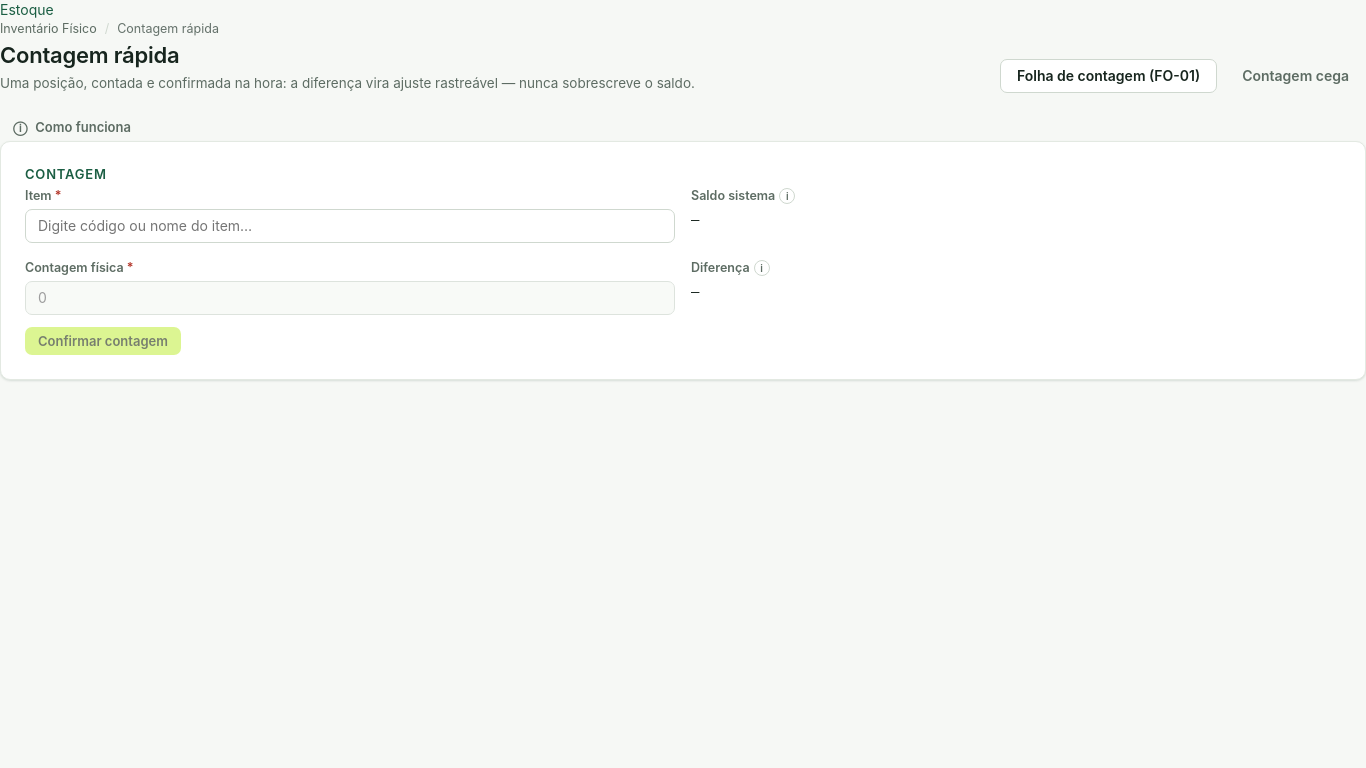
Inventário Físico — guarda de alterações não salvas › o motivo da divergência também pergunta, e Continuar mantém tudo
Expected: the heading "Contagem rápida" is shown, [0,42,179,68]
In the dropdown with id "count-item": (350, 226) [25,209,675,243], type "MP-000001"
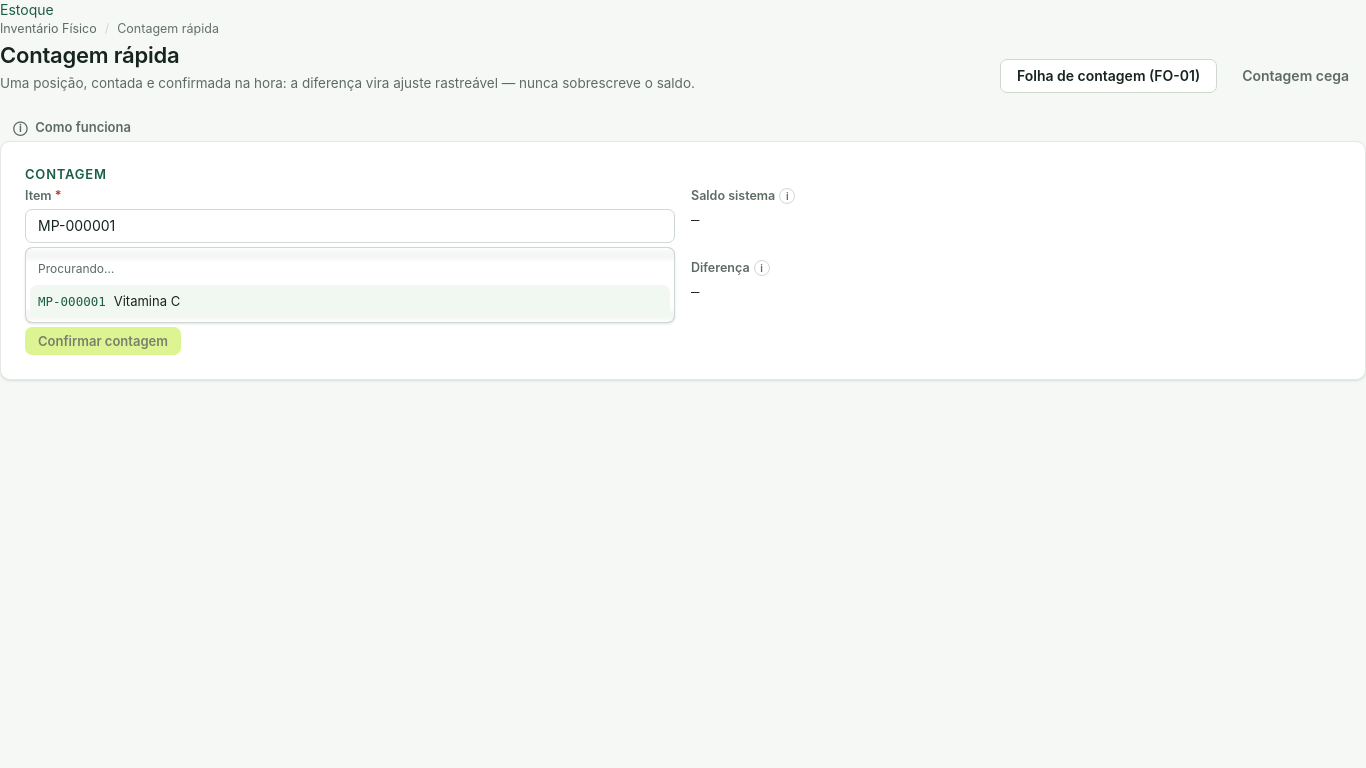
Press the mouse on the option "MP-000001 Vitamina C": (72, 302) [30,285,670,318]
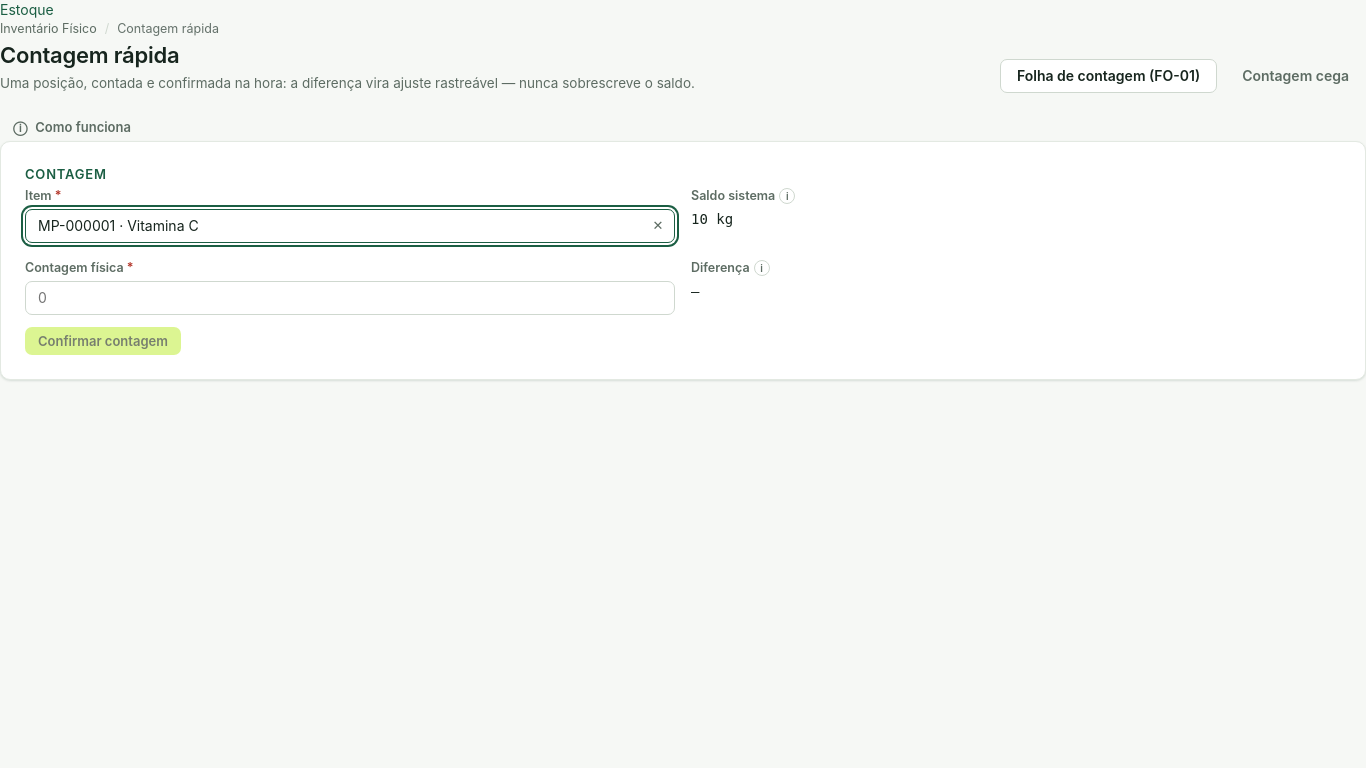
Expected: the field with id "count-quantity" is enabled
In the field with id "count-quantity": (350, 298) [25,281,675,315], type "8"
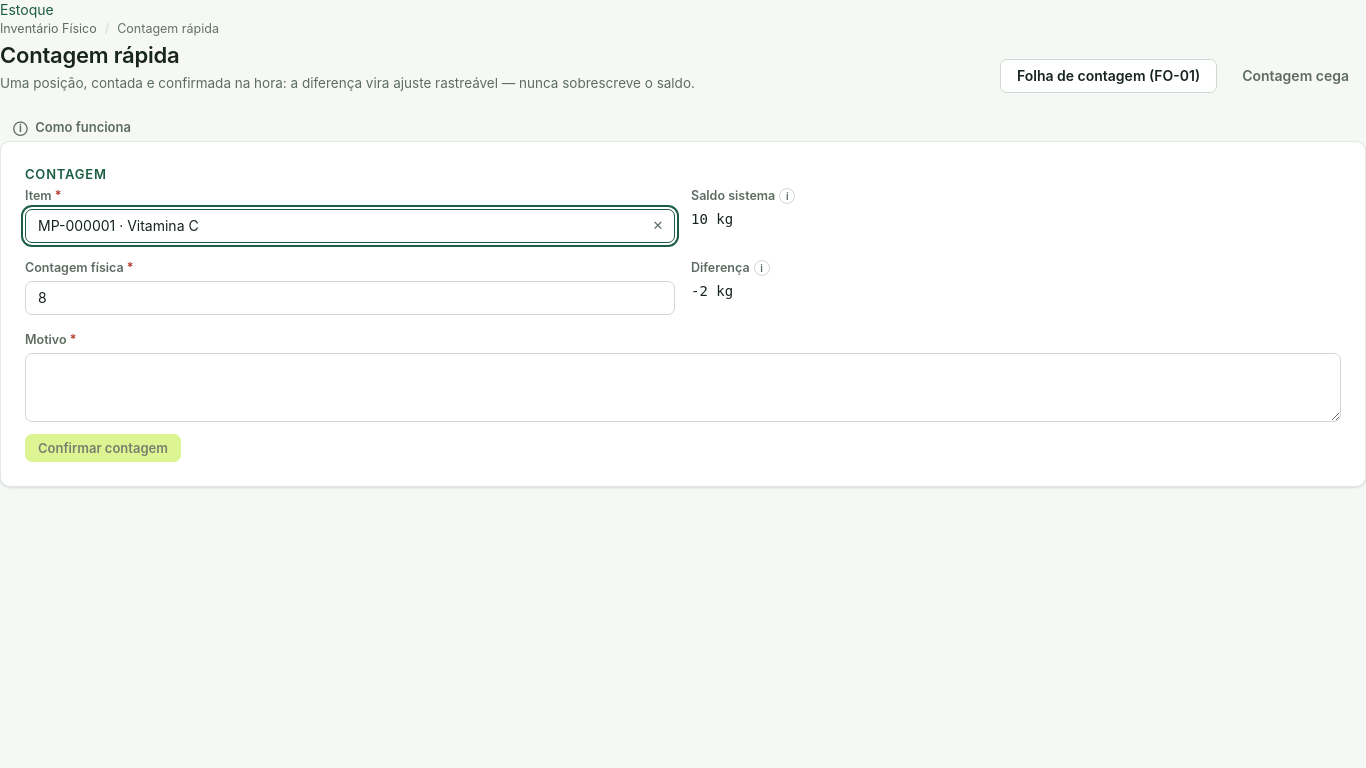
In the text box with id "count-reason": (683, 388) [25,353,1341,422], type "Quebra na separação"
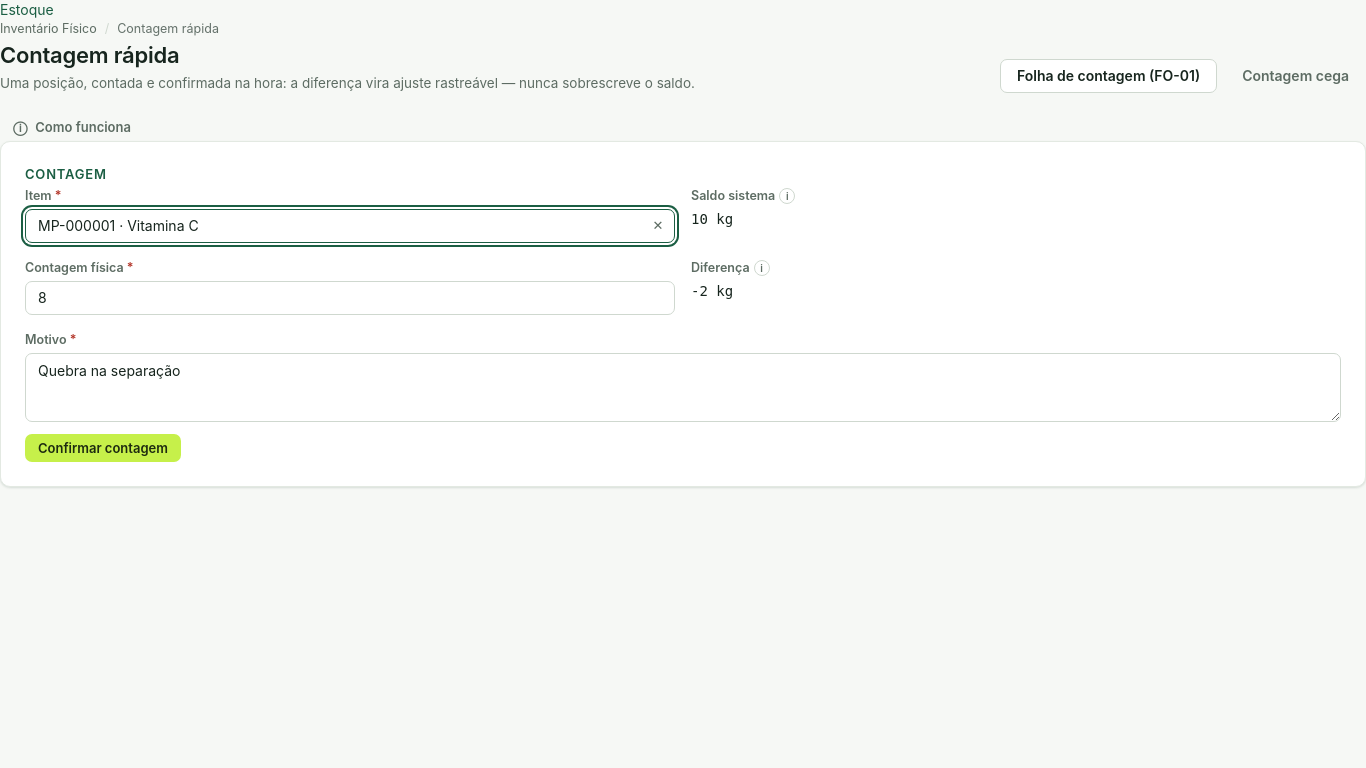
Click the link "Estoque": (27, 10) [0,1,54,18]
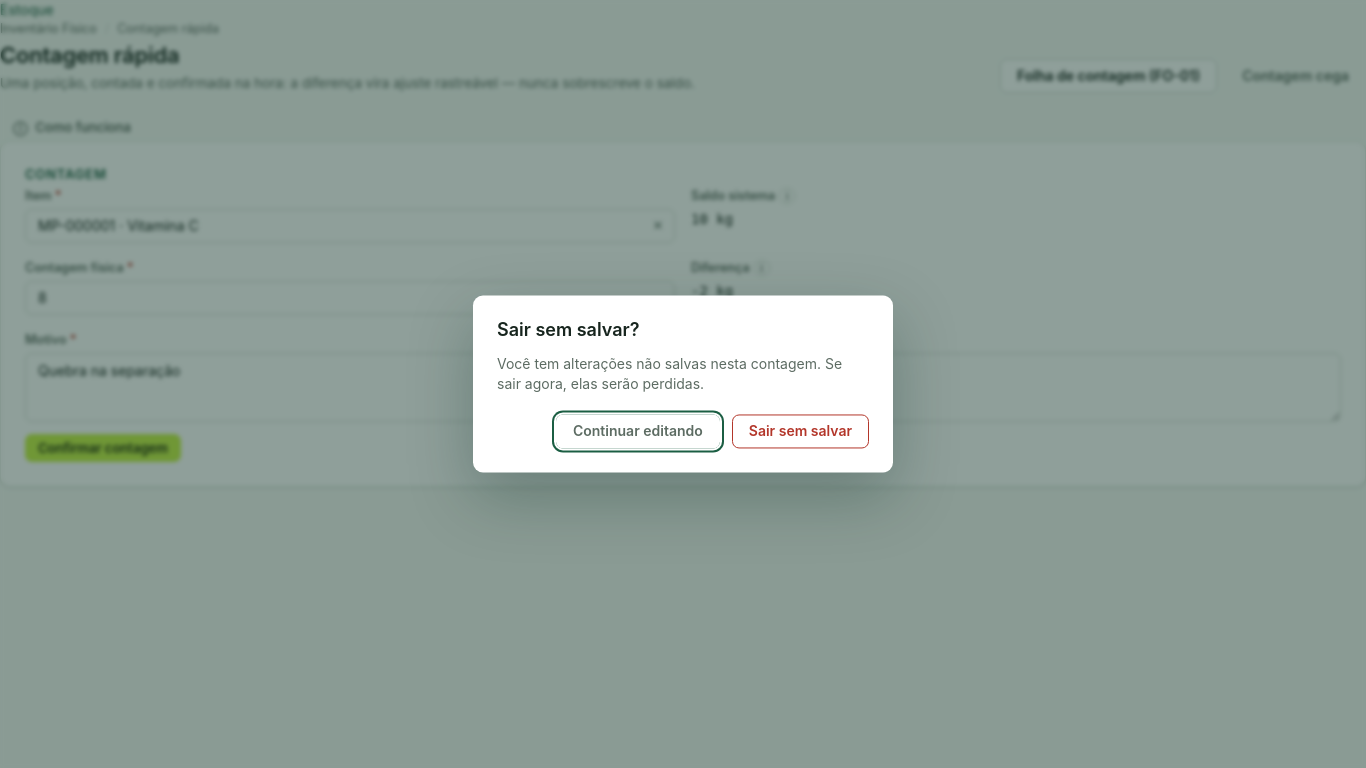
Click the button "Continuar editando": (638, 432) [556,414,720,448]
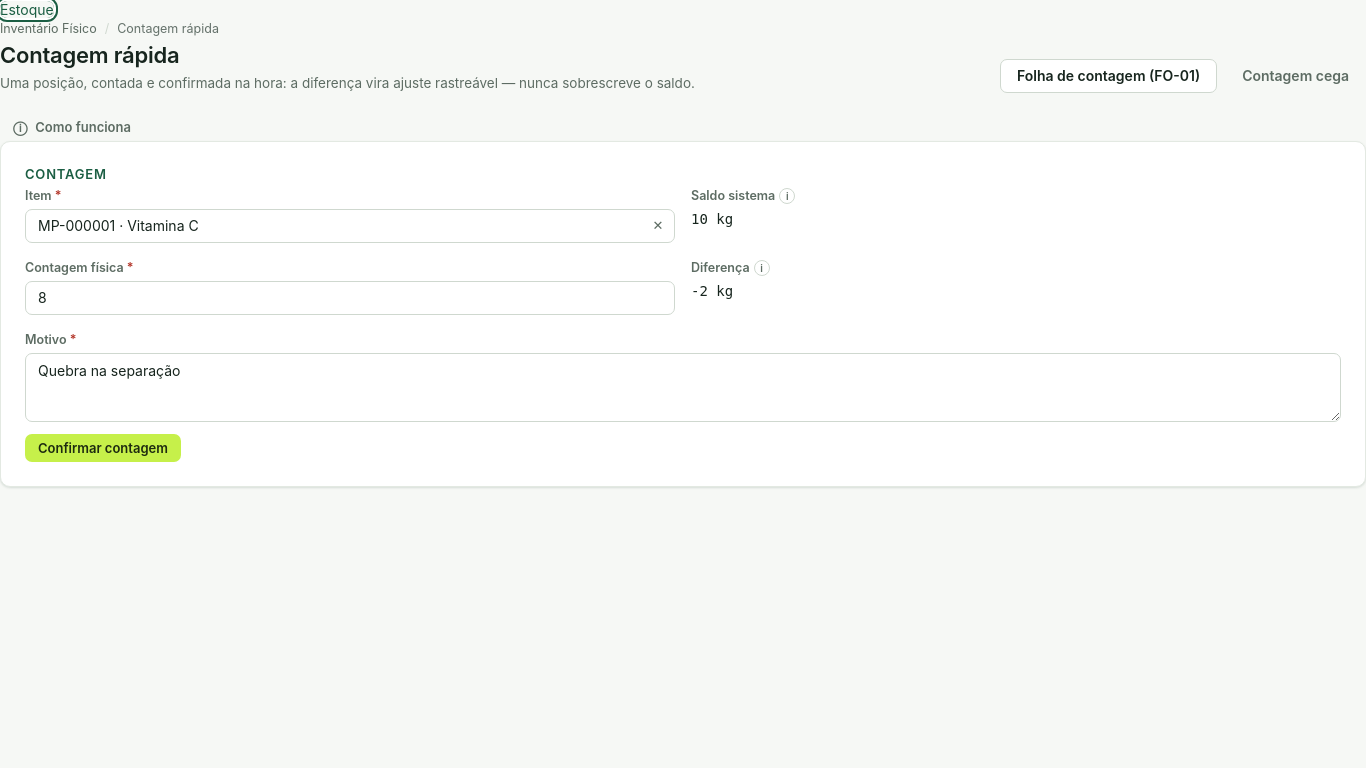
Expected: the dialog is gone
